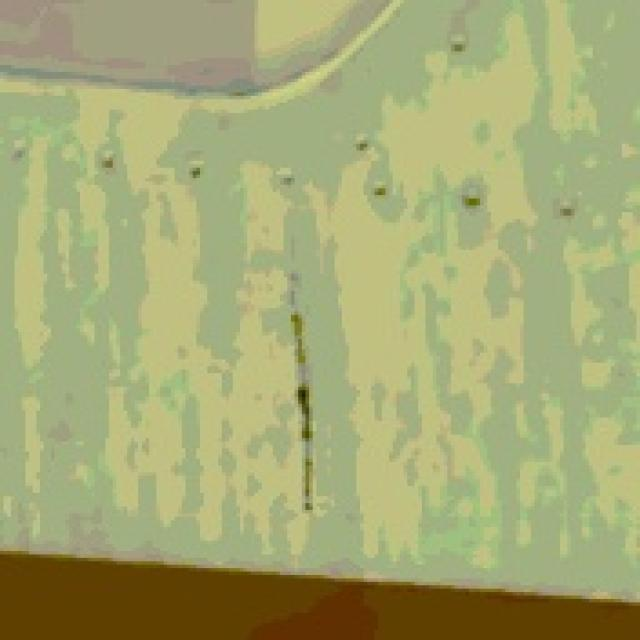crack: (230, 271, 343, 504)
